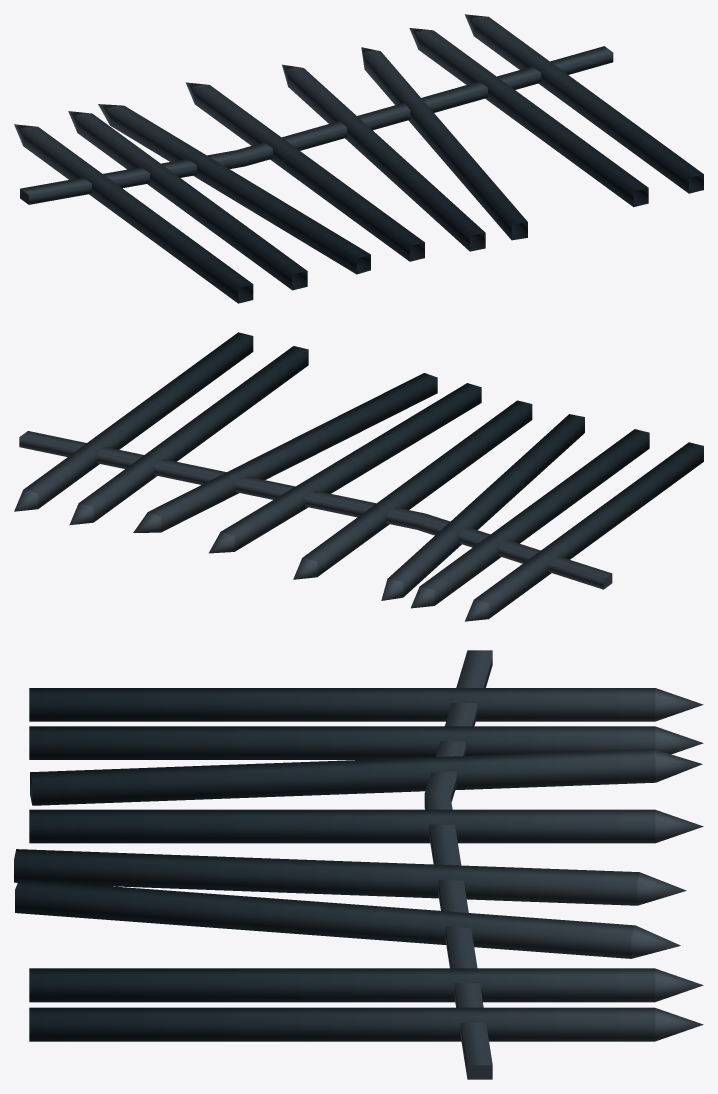
File: Fence 02.FBX
3 views of the same model, one above another, from view 1: azimuth 30°, elevation 25°; view 2: azimuth 150°, elevation 25°; view 3: azimuth 270°, elevation 25° (orthographic). The views are drawn at different scales.
Parts seen in each view (by area): view 1: Fence 02; view 2: Fence 02; view 3: Fence 02.
Boxes of the visible parts, bbox=[...] form: Fence 02: bbox=[14, 14, 703, 303]; Fence 02: bbox=[14, 332, 703, 621]; Fence 02: bbox=[14, 650, 703, 1079].
Size of the model in its own units: 347 by 244 by 8.96.
Materials: 1 (1 with a texture image).
